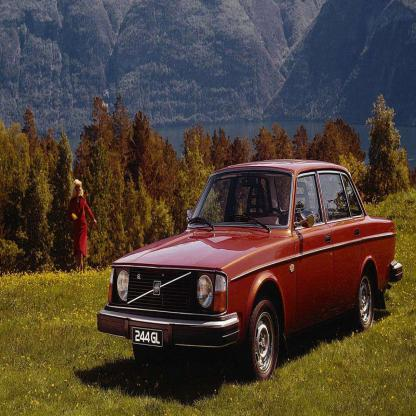Vehicle: (92, 157, 406, 394)
